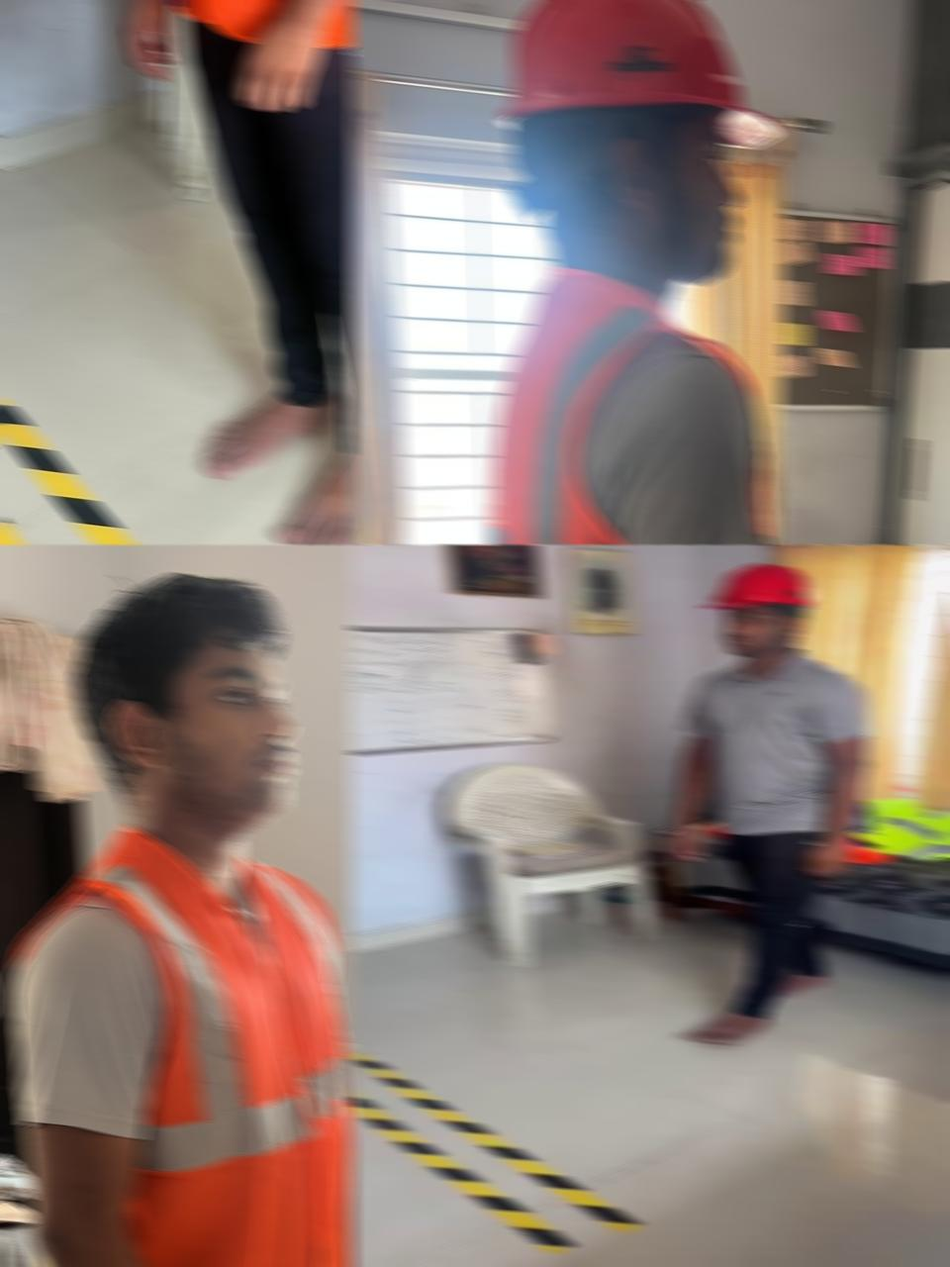BorderLine: (348, 1052, 644, 1254), (0, 381, 143, 544), (0, 410, 31, 544)
Helmet: (495, 0, 782, 276), (699, 563, 816, 609)
No_Helmet: (70, 570, 295, 836)
No_Vest: (676, 650, 875, 836)
Person: (3, 570, 355, 1267), (480, 0, 863, 544), (121, 0, 355, 544), (668, 563, 875, 1044)
Vest: (10, 824, 353, 1267), (483, 265, 779, 544)
